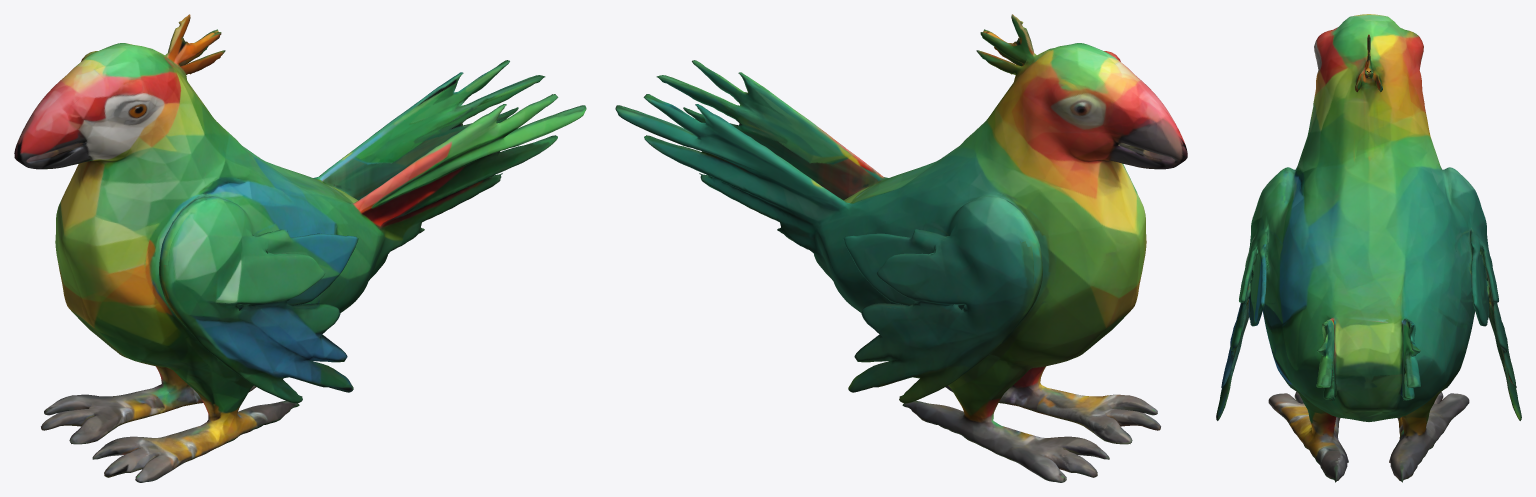
File: a_low_poly_parrot_1114013648_refine.fbx
3 views of the same model, side by side, from view 1: azimuth 30°, elevation 25°; view 2: azimuth 150°, elevation 25°; view 3: azimuth 270°, elevation 25° (orthographic).
Visible parts, largest first — view 1: Mesh1_Mesh1.036; view 2: Mesh1_Mesh1.036; view 3: Mesh1_Mesh1.036.
Boxes of the visible parts, x1,y1,x2,y2 form: Mesh1_Mesh1.036: [14, 14, 586, 482]; Mesh1_Mesh1.036: [615, 14, 1187, 482]; Mesh1_Mesh1.036: [1216, 14, 1521, 482].
Size of the model in its own units: 200 by 143 by 95.96.
Materials: 1 (1 with a texture image).
